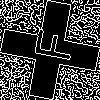F: (25, 25, 75, 64)
